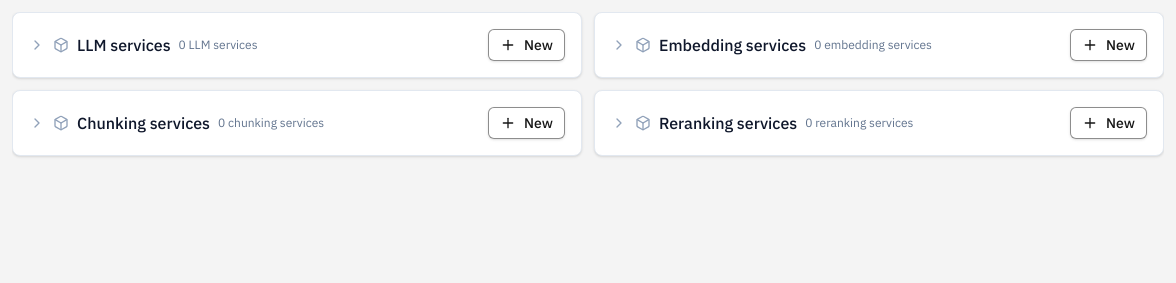
Test case: ServicesPanel › shows the loading state inside an expanded subpanel while the list query is pending
The width and height of the screenshot is (1176, 283).
Click the button named "Embedding services" at (879, 45), box x1=595 y1=13 x2=1163 y2=77
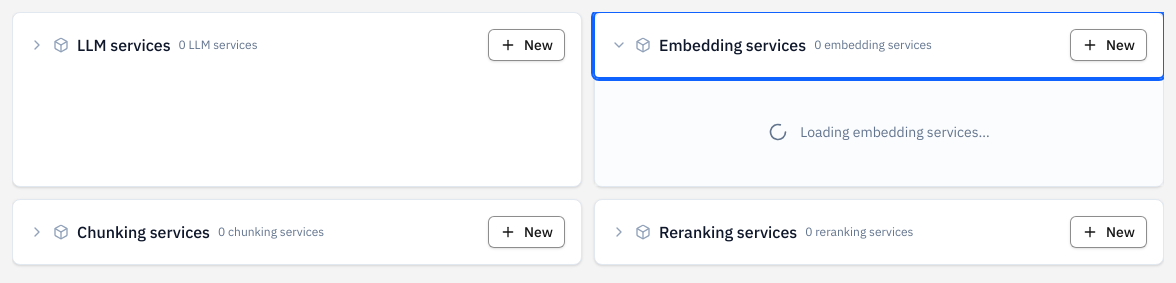
Now the text "Loading embedding services…" is shown, box x1=800 y1=122 x2=990 y2=142
